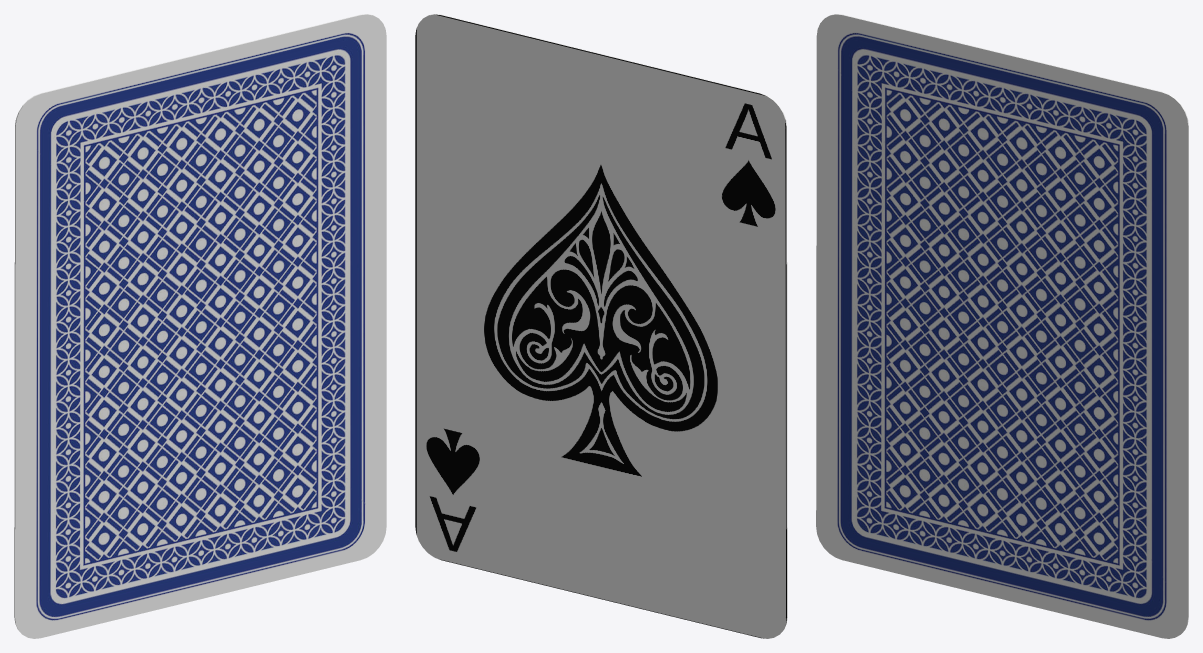
Rendered from base-card.glb.
3 renders of one model, left to right at view 1: azimuth 30°, elevation 25°; view 2: azimuth 150°, elevation 25°; view 3: azimuth 330°, elevation 25°, orthographic.
Parts seen in each view (by area): view 1: Plane; view 2: Plane; view 3: Plane.
Part boxes in pixels (x1=…): Plane: x1=14, y1=14, x2=386, y2=638; Plane: x1=415, y1=14, x2=787, y2=638; Plane: x1=816, y1=14, x2=1188, y2=638.
Size of the model in its own units: 3.56 by 4.99 by 0.0111.
2 materials, 2 textured.
